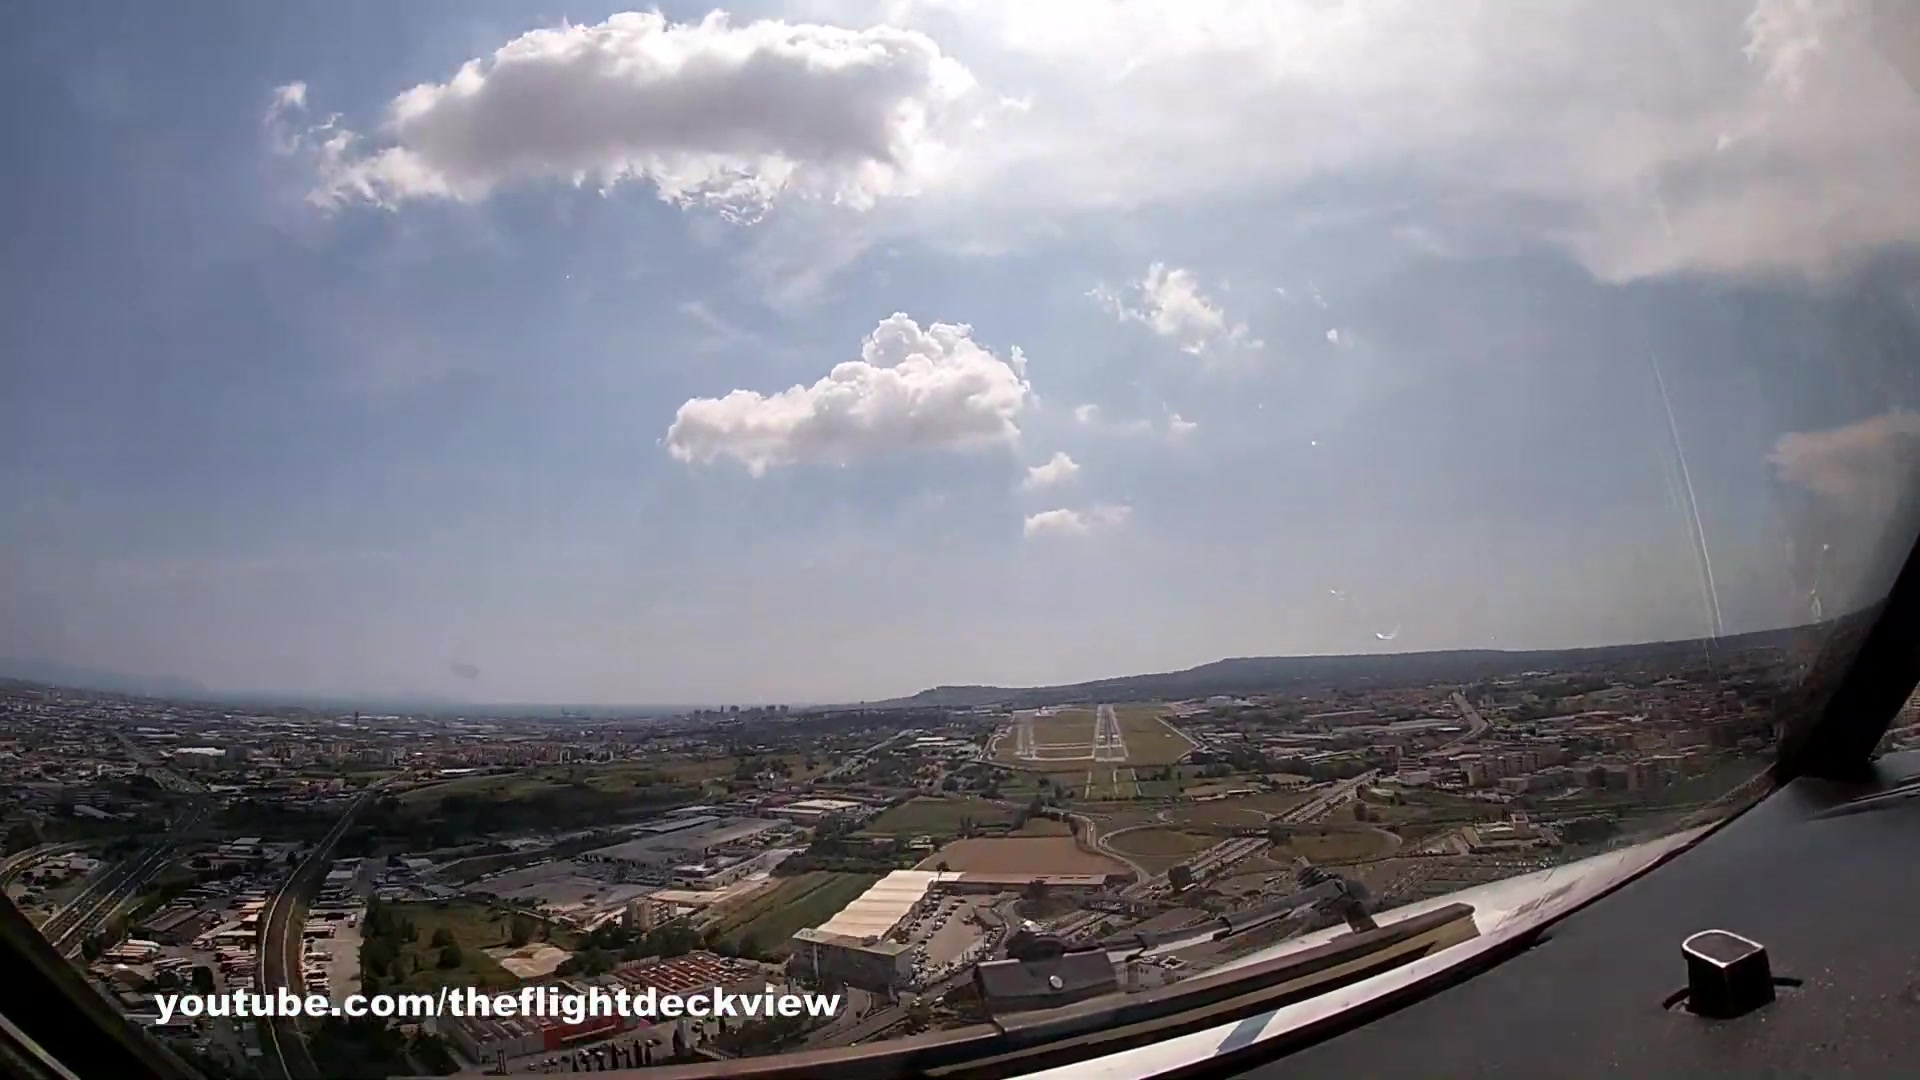runway: (1092, 702, 1124, 753)
